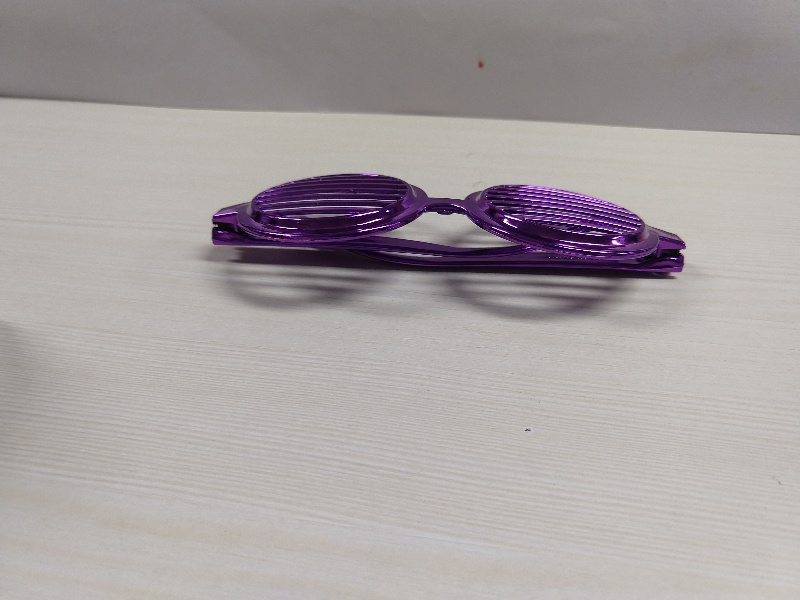shades: (202, 167, 708, 283)
